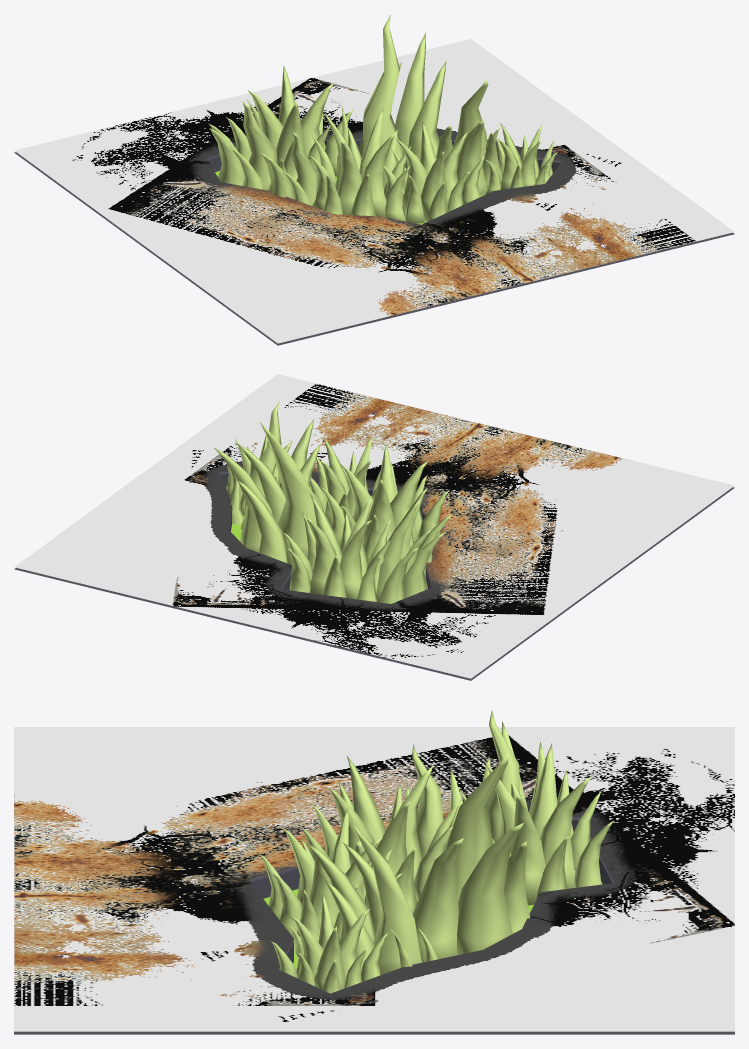
The model's file is Crack2.fbx.
The picture shows the model from 3 angles, top to bottom: view 1: azimuth 30°, elevation 25°; view 2: azimuth 150°, elevation 25°; view 3: azimuth 270°, elevation 25°; orthographic projection. The views are drawn at different scales.
Parts seen in each view (by area): view 1: Crack2; view 2: Crack2; view 3: Crack2.
Part boxes in pixels (box(x1,y1,x2,y2)): Crack2: box(14, 14, 734, 345); Crack2: box(14, 374, 734, 680); Crack2: box(14, 710, 734, 1034).
Size of the model in its own units: 200 by 65.02 by 200.
